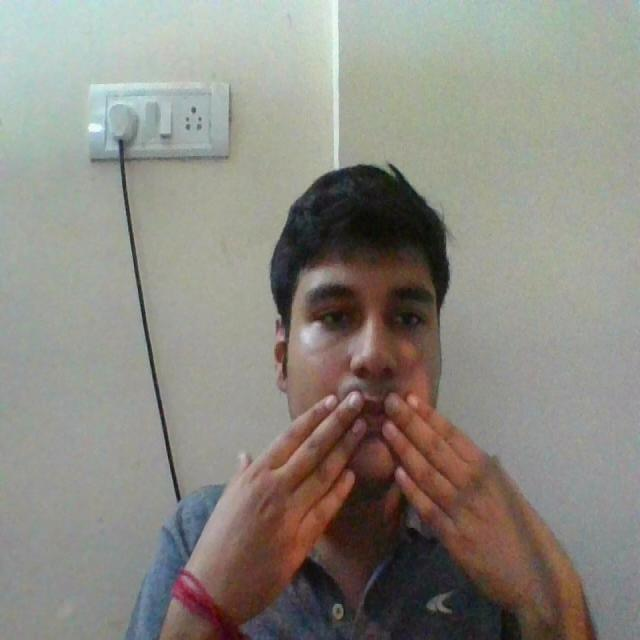Thanks: (187, 362, 592, 640)
